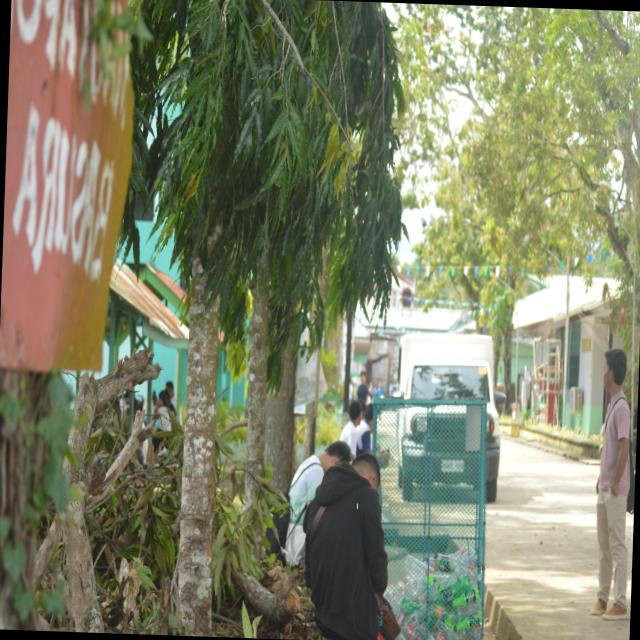person: (303, 454, 393, 639), (590, 350, 629, 620), (283, 441, 350, 566), (339, 400, 362, 457), (352, 403, 372, 457), (356, 371, 370, 407)
